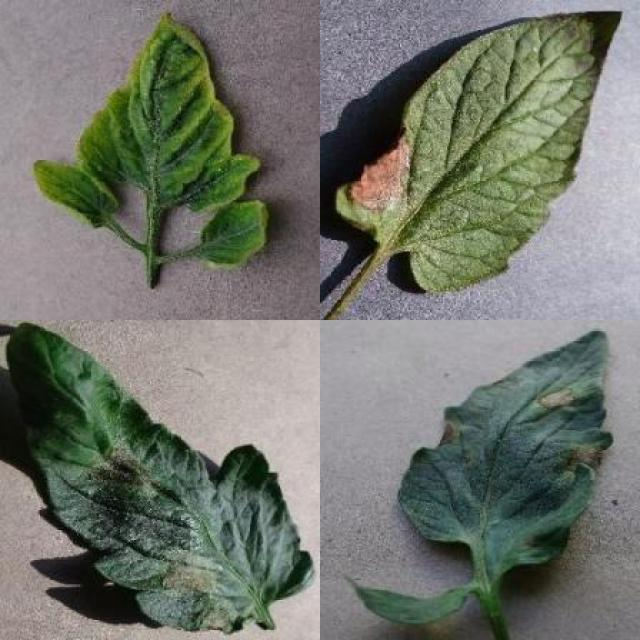Early Blight: (399, 330, 614, 567)
Late Blight: (6, 322, 315, 634), (336, 10, 626, 294)
Yellow Leaf Curl Virus: (77, 13, 260, 213), (30, 158, 124, 228), (194, 200, 269, 270)
